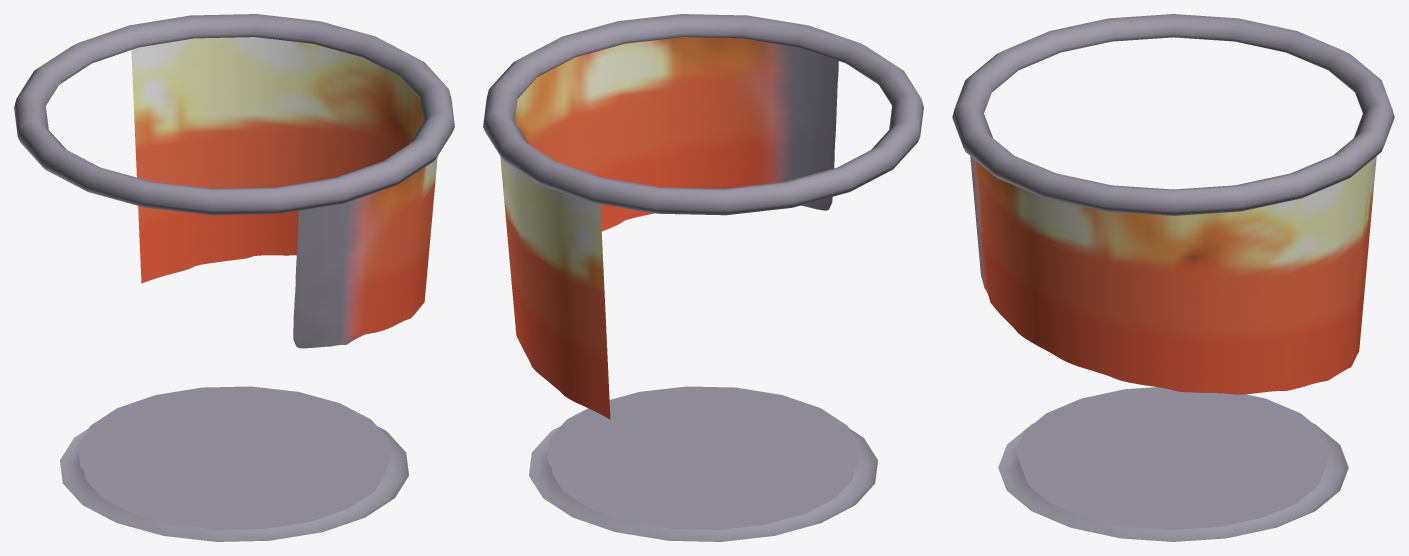
The model's file is Popcorn Empty.fbx.
3 views of the same model, side by side, from view 1: azimuth 30°, elevation 25°; view 2: azimuth 150°, elevation 25°; view 3: azimuth 270°, elevation 25° (orthographic).
Parts seen in each view (by area): view 1: Popcorn Empty; view 2: Popcorn Empty; view 3: Popcorn Empty.
Boxes of the visible parts, x1,y1,x2,y2 form: Popcorn Empty: [14, 14, 454, 541]; Popcorn Empty: [483, 14, 923, 541]; Popcorn Empty: [952, 14, 1394, 541].
Bounding box in the file's own units: 26.27 × 24.16 × 26.27.
